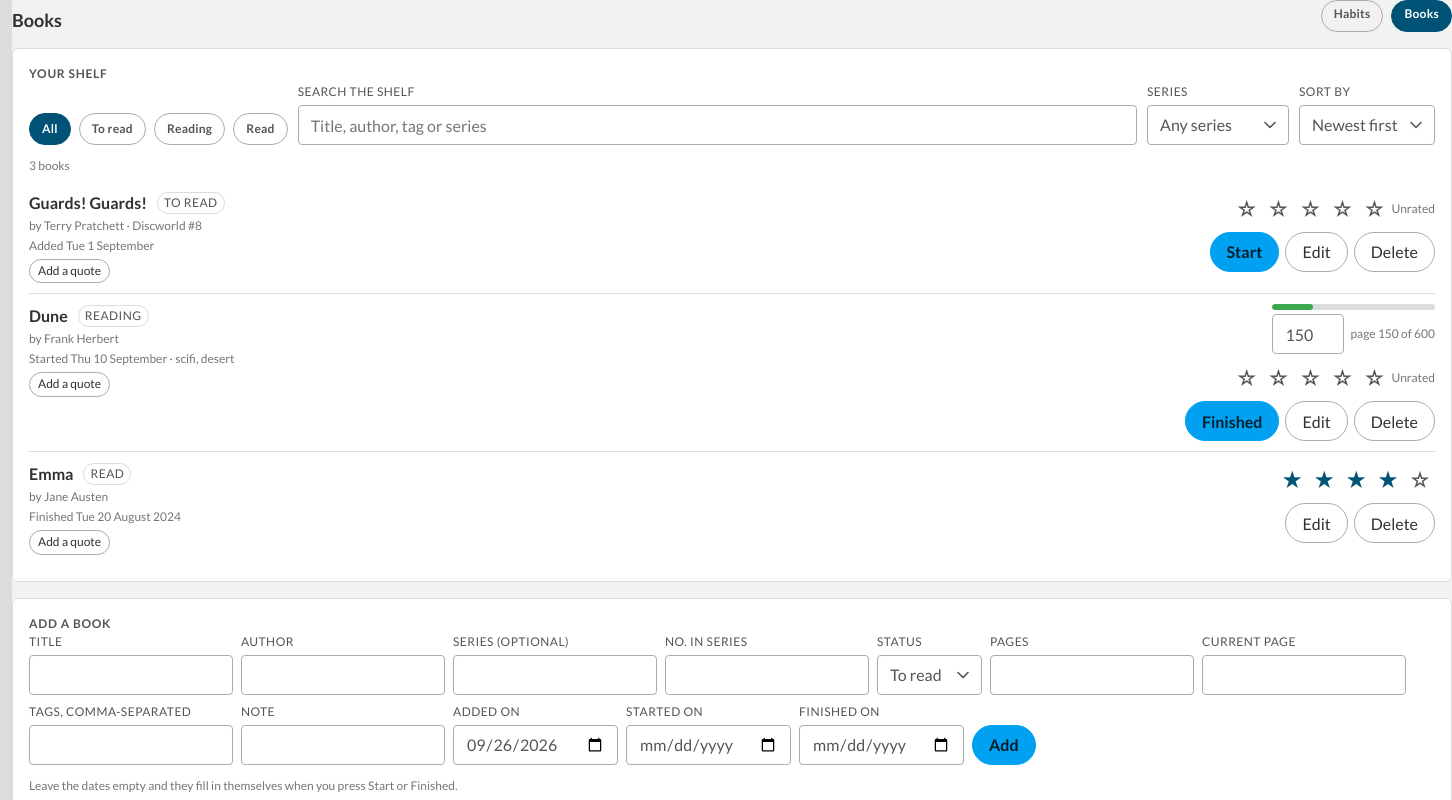
BooksPage › edits in the same form, sending every box so a cleared one clears
The image size is (1452, 800).
Expected: the text "Dune" is shown, [29,304,68,328]
Click the button with aria-label "Edit Dune" at (1317, 421), box [1285,401,1348,441]
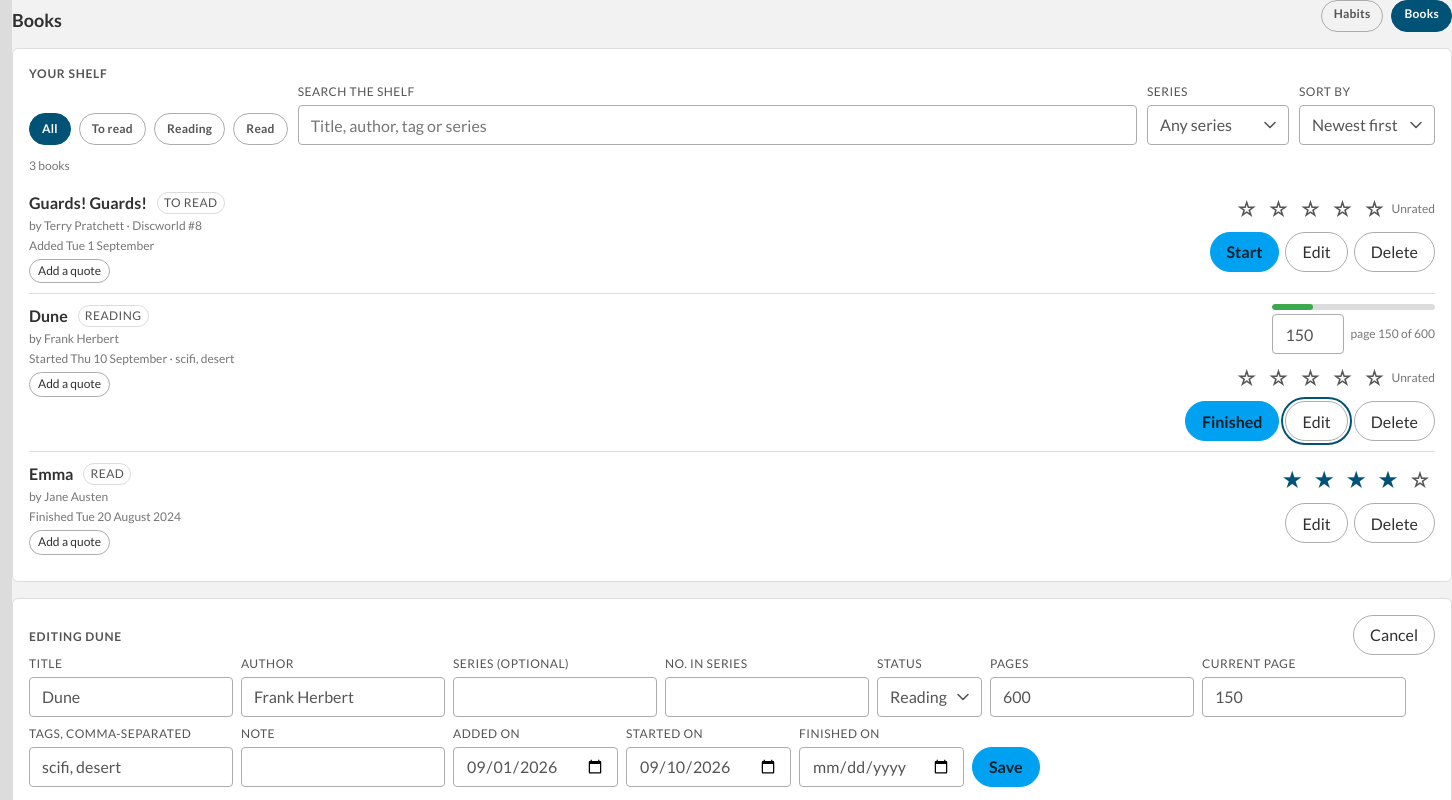
Expected: the heading "Editing Dune" is shown, [29,628,122,646]
Expected: the field labelled "Title" holds "Dune", [29,677,233,717]
Expected: the number field labelled "Pages" holds "600", [990,677,1194,717]
Clear the date field labelled "Started on" at (708, 767), box [626,747,791,787]
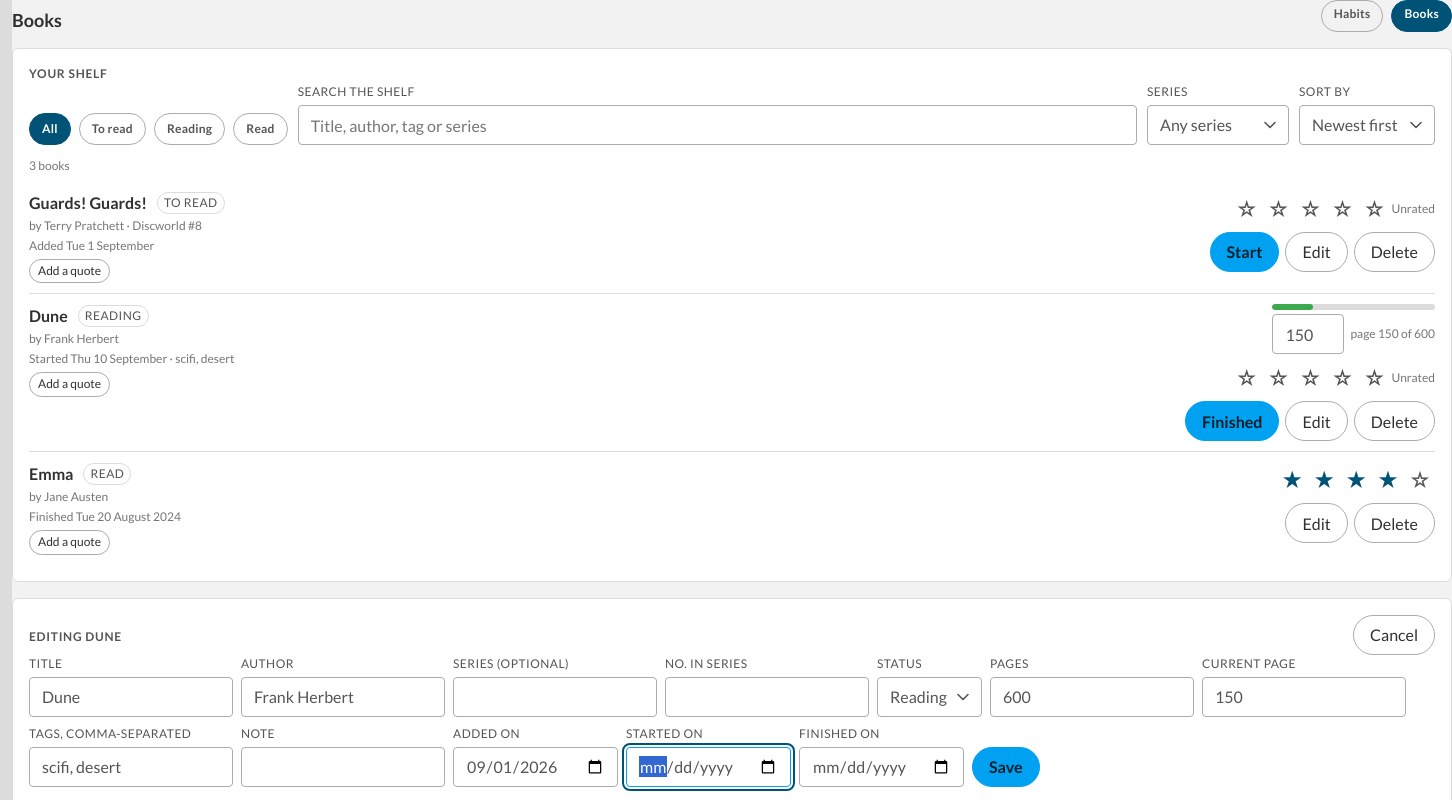
Click the button "Save" at (1006, 767), box [972,747,1040,787]
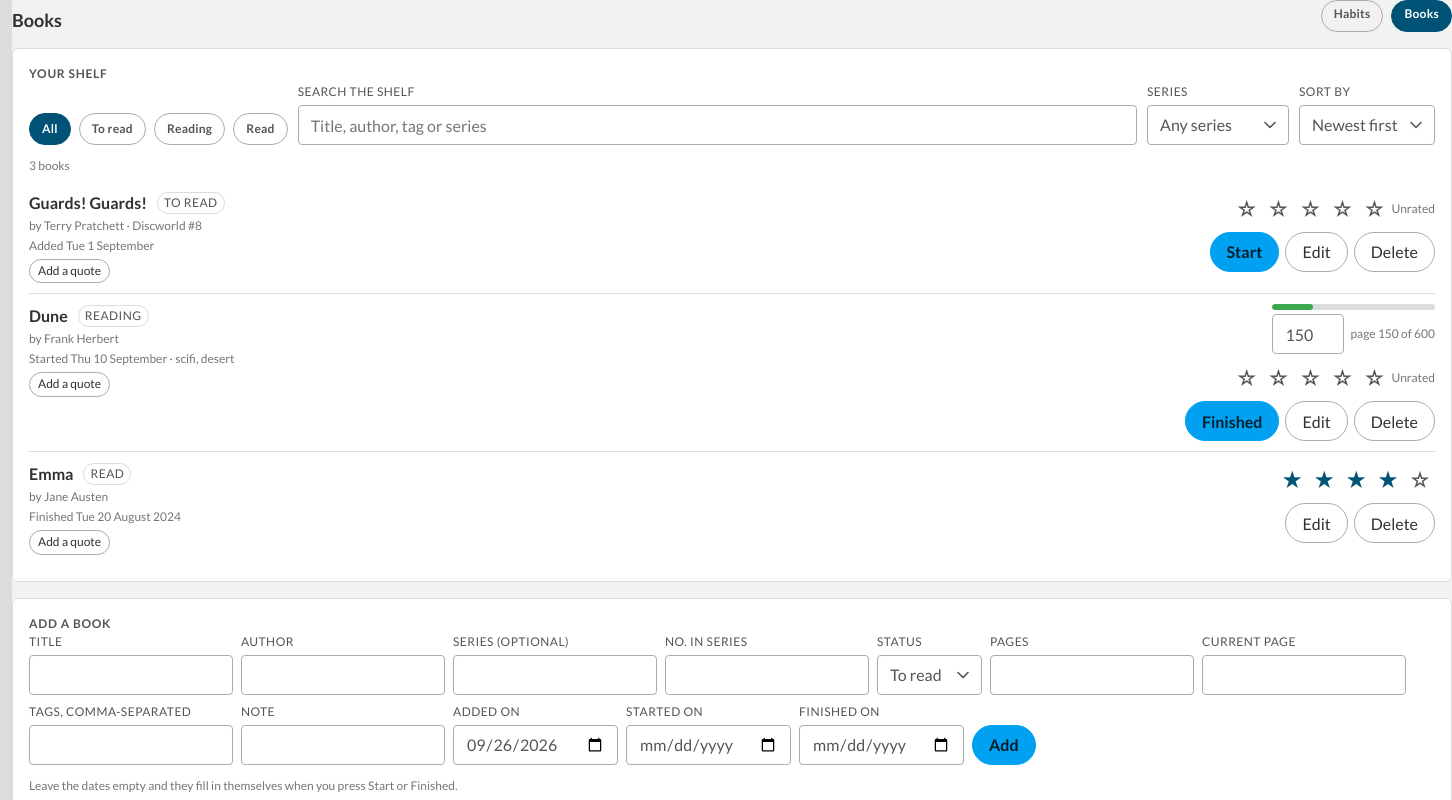
Expected: the heading "Add a book" is shown, [29,615,111,633]
